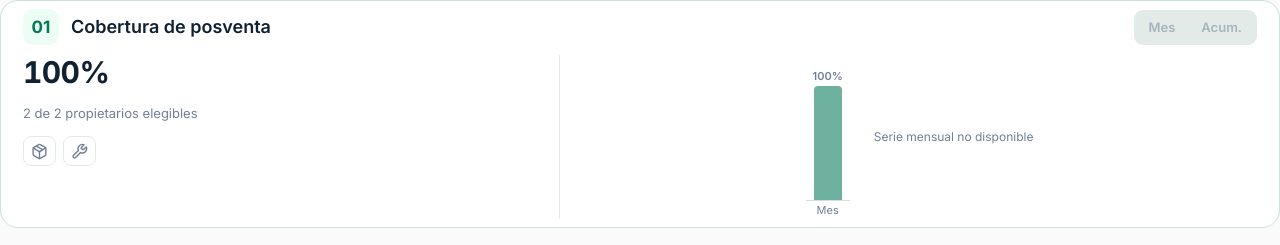
enables coverage only with a validated breakdown and deduplicates combined owners
Click the button named "Filtrar cobertura de repuestos".
click(40, 151)  # box [23, 136, 56, 166]
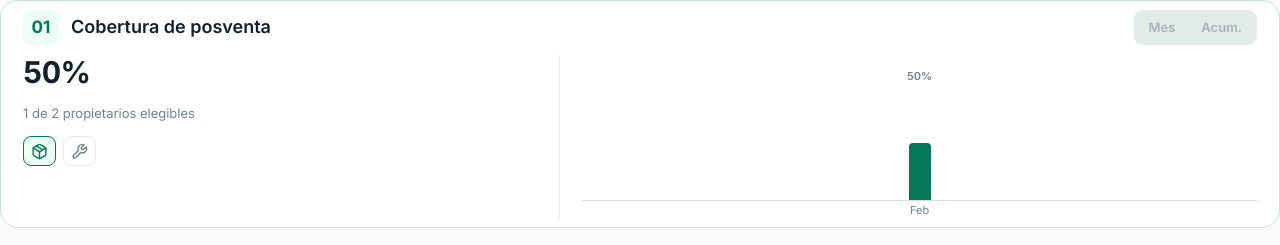
Result: the text named "Cobertura: 50%" is shown at [23, 55, 90, 90]
Click the button named "Filtrar cobertura de servicios".
click(80, 151)  # box [63, 136, 96, 166]
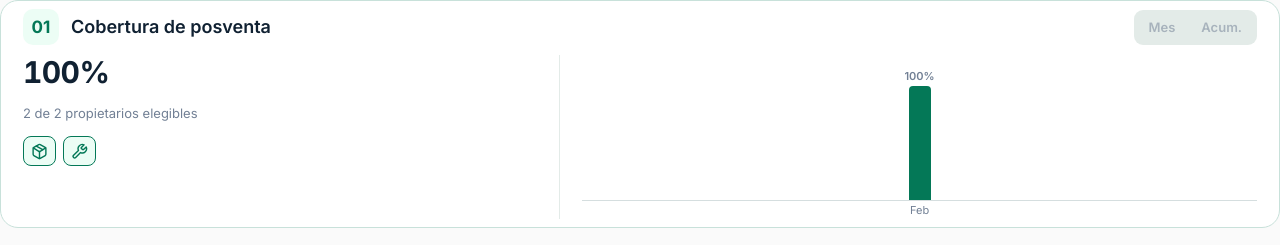
Result: the text named "Cobertura: 100%" is shown at [23, 55, 109, 90]
Click the button named "Filtrar cobertura de repuestos".
click(40, 151)  # box [23, 136, 56, 166]
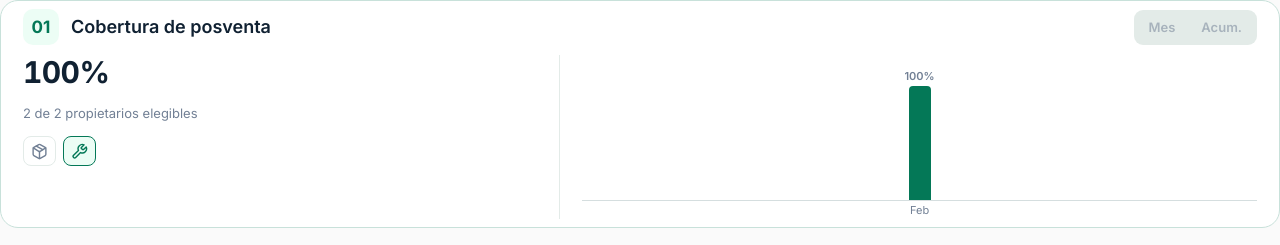
Result: the text named "Cobertura: 100%" is shown at [23, 55, 109, 90]
Click the button named "Filtrar cobertura de servicios".
click(80, 151)  # box [63, 136, 96, 166]
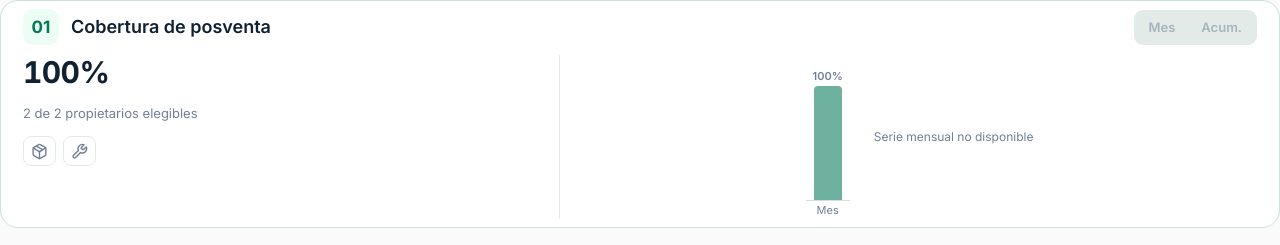
Result: the button named "Filtrar cobertura de servicios" is not pressed at [63, 136, 96, 166]
